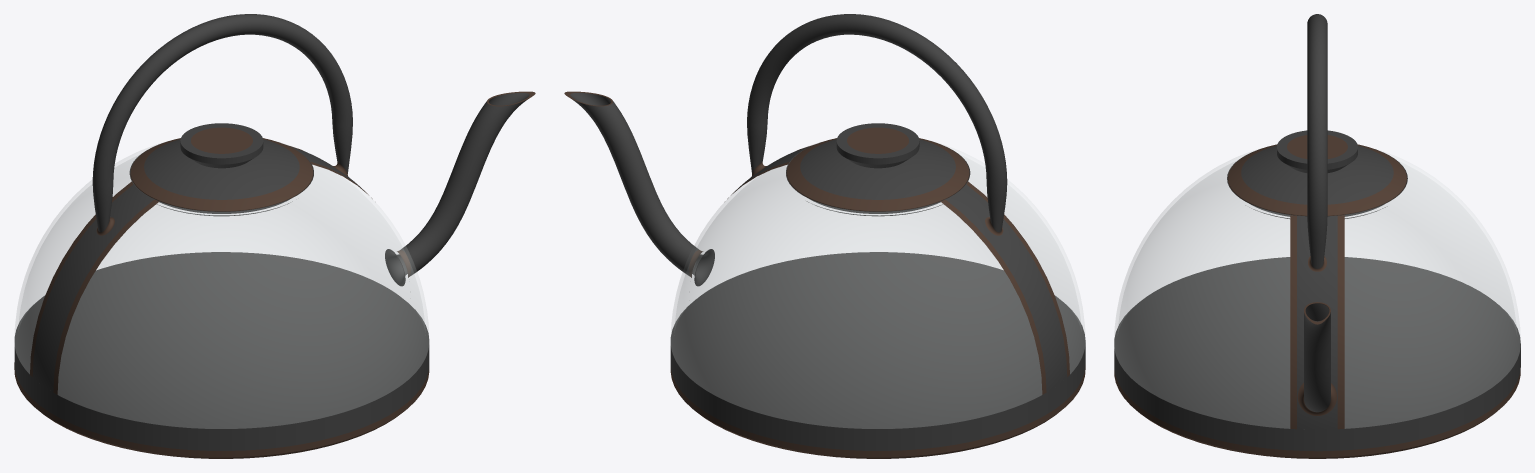
The picture shows the model from 3 angles, left to right: view 1: azimuth 30°, elevation 25°; view 2: azimuth 150°, elevation 25°; view 3: azimuth 270°, elevation 25°; orthographic projection. The views are drawn at different scales.
Parts seen in each view (by area): view 1: Surface Assignment; view 2: Surface Assignment; view 3: Surface Assignment.
Boxes of the visible parts, x1=… form: Surface Assignment: x1=14, y1=14, x2=535, y2=458; Surface Assignment: x1=564, y1=14, x2=1085, y2=458; Surface Assignment: x1=1114, y1=14, x2=1520, y2=458.
Size of the model in its own units: 0.1646 by 0.113 by 0.12.
